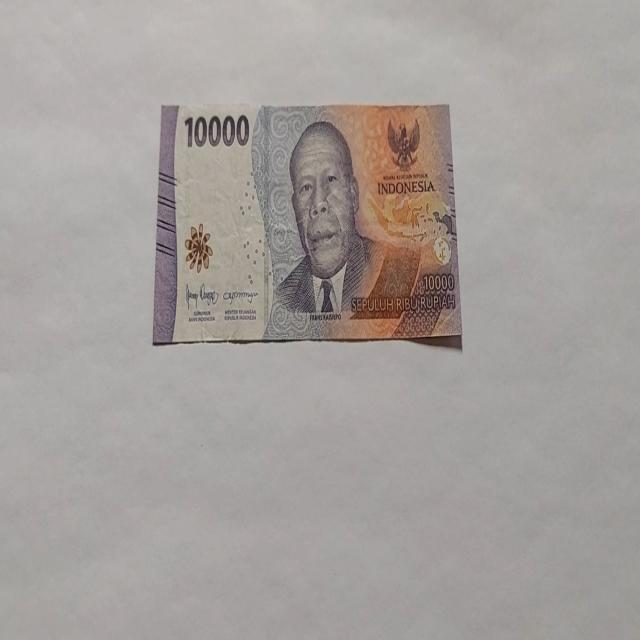sepuluh ribu rupiah: (152, 100, 462, 348), (264, 119, 388, 334)
